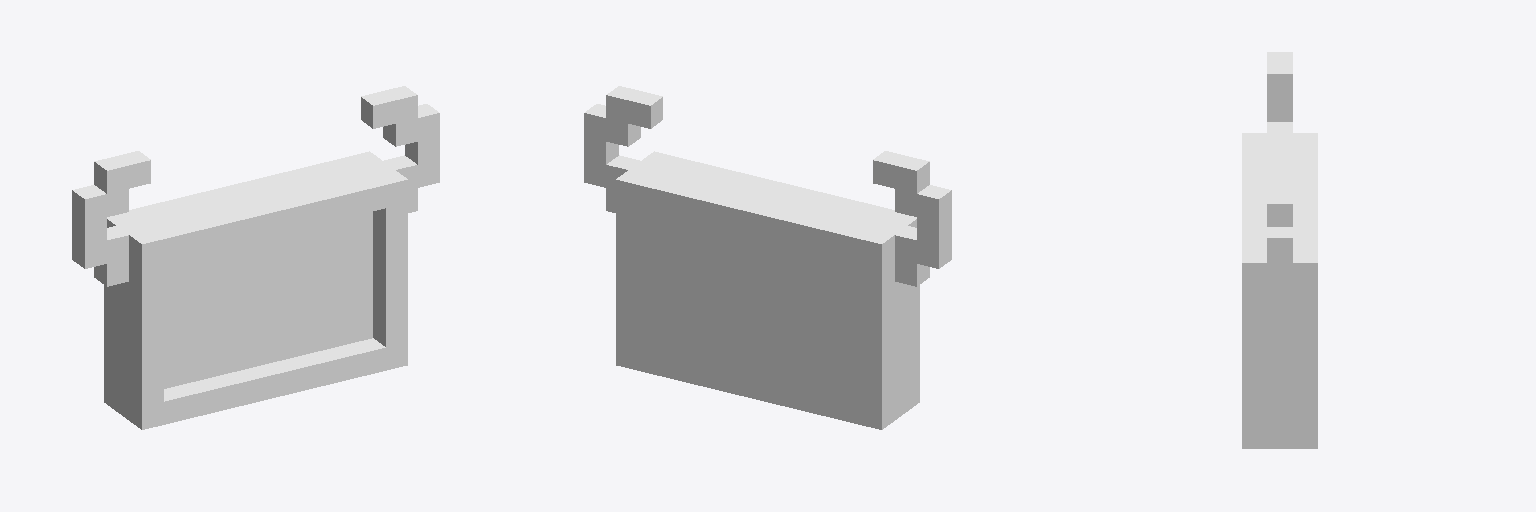
File: boss_monitor.obj
3 renders of one model, left to right at view 1: azimuth 30°, elevation 25°; view 2: azimuth 150°, elevation 25°; view 3: azimuth 270°, elevation 25°, orthographic.
Parts seen in each view (by area): view 1: object 1; view 2: object 1; view 3: object 1.
Part boxes in pixels (bbox=[...]): object 1: bbox=[72, 86, 439, 429]; object 1: bbox=[584, 86, 951, 429]; object 1: bbox=[1242, 52, 1317, 448].
Size of the model in its own units: 1.6 by 1.1 by 0.3.